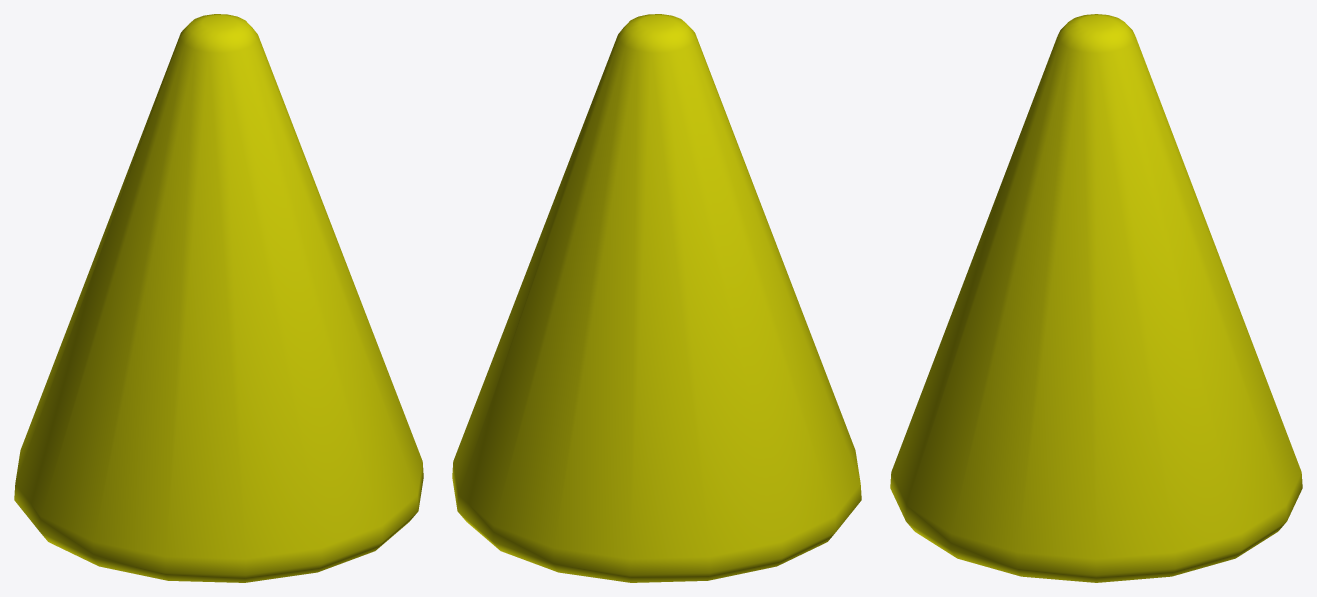
The model's file is WoodenCone.fbx.
3 renders of one model, left to right at view 1: azimuth 30°, elevation 25°; view 2: azimuth 150°, elevation 25°; view 3: azimuth 270°, elevation 25°, orthographic.
Visible parts, largest first — view 1: WoodenCone; view 2: WoodenCone; view 3: WoodenCone.
Part boxes in pixels (box(x1,y1,x2,y2)): WoodenCone: box(14, 14, 423, 582); WoodenCone: box(452, 14, 861, 582); WoodenCone: box(890, 14, 1302, 582).
Bounding box in the file's own units: 8.29 × 10.67 × 8.29.
